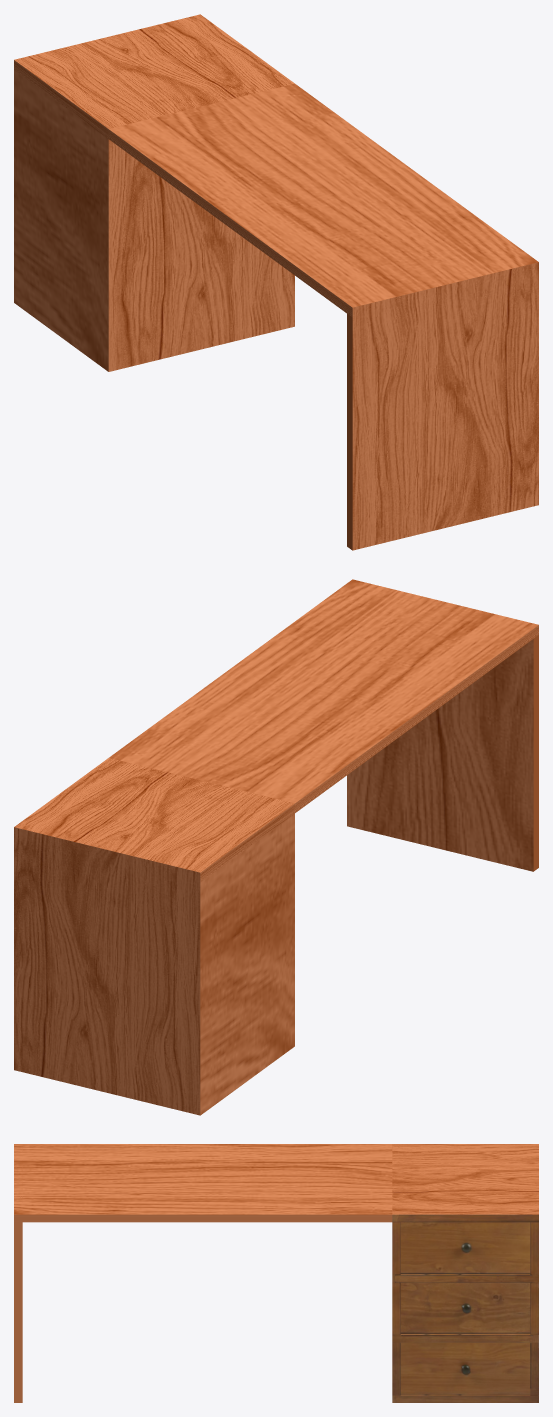
File: Desk.fbx
3 views of the same model, one above another, from view 1: azimuth 30°, elevation 25°; view 2: azimuth 150°, elevation 25°; view 3: azimuth 270°, elevation 25° (orthographic). The views are drawn at different scales.
Visible parts, largest first — view 1: desk; view 2: desk; view 3: desk, drawer3, drawer2, drawer1.
Part boxes in pixels (box(x1,y1,x2,y2)): desk: box(14, 14, 538, 550); desk: box(14, 579, 538, 1115); desk: box(14, 1144, 538, 1402); drawer3: box(400, 1342, 530, 1394); drawer2: box(400, 1282, 530, 1334); drawer1: box(400, 1222, 530, 1273).
Size of the model in its own units: 200 by 249 by 629.
